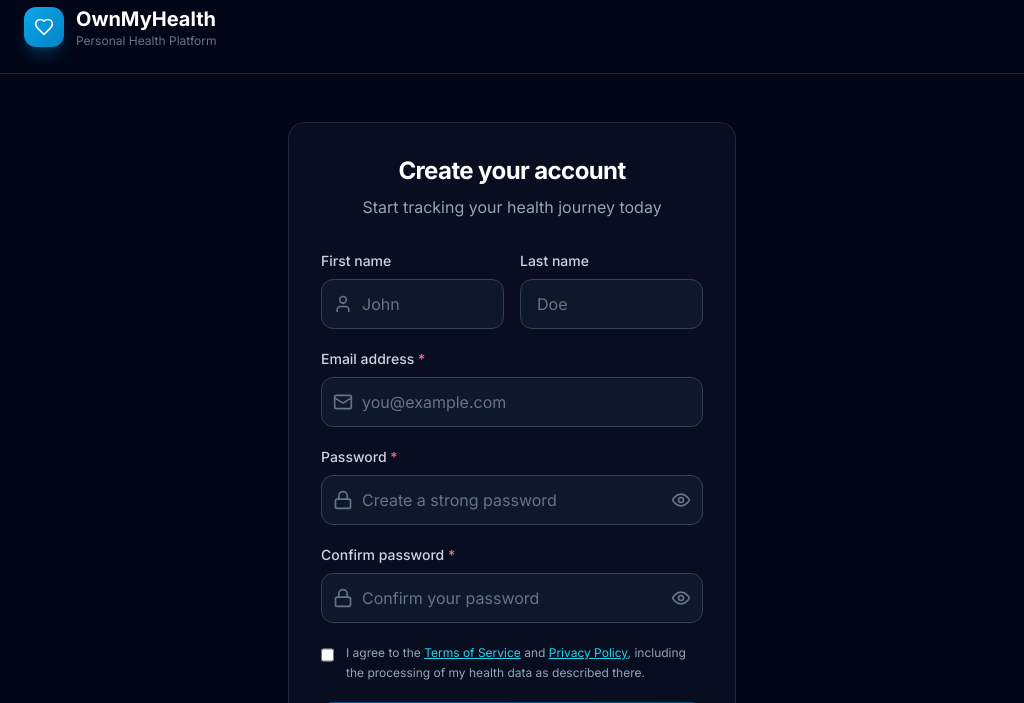
Scenario: RegisterPage — registration → verification funnel (ONB-1) › shows a "check your inbox" state with the email after a successful registration
Step 1. Type "jane@user.io" into the field with placeholder "you@example.com" → (512, 402), box [321,377,703,427]
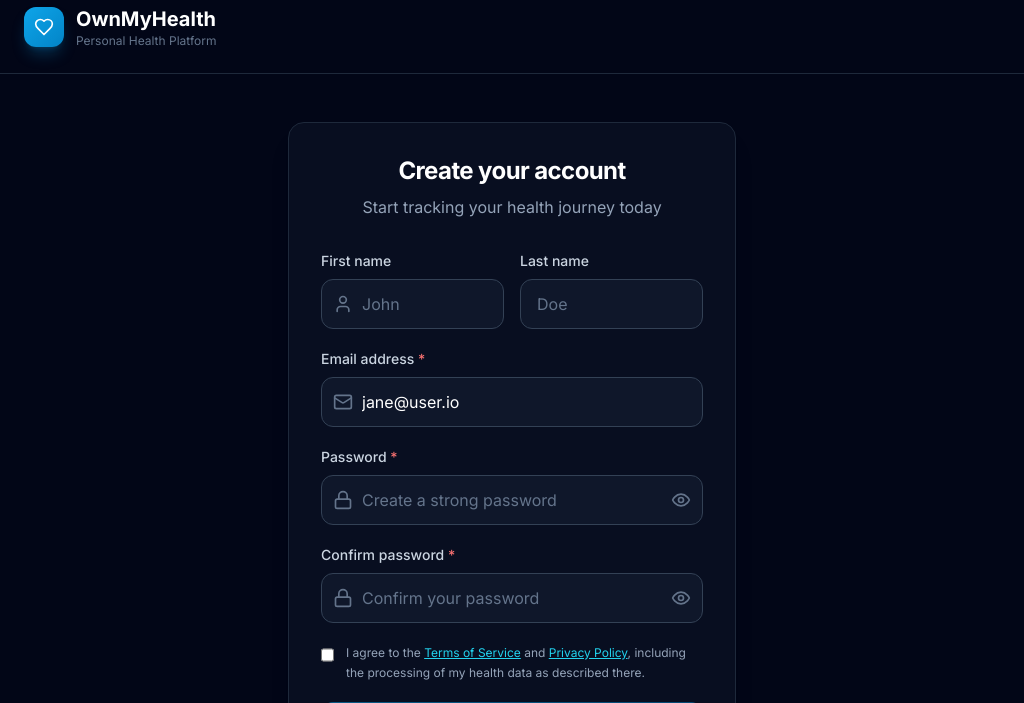
Step 2. Type "Abcdef123456!" into the password field with placeholder "Create a strong password" → (512, 500), box [321,475,703,525]
(page scrolled)
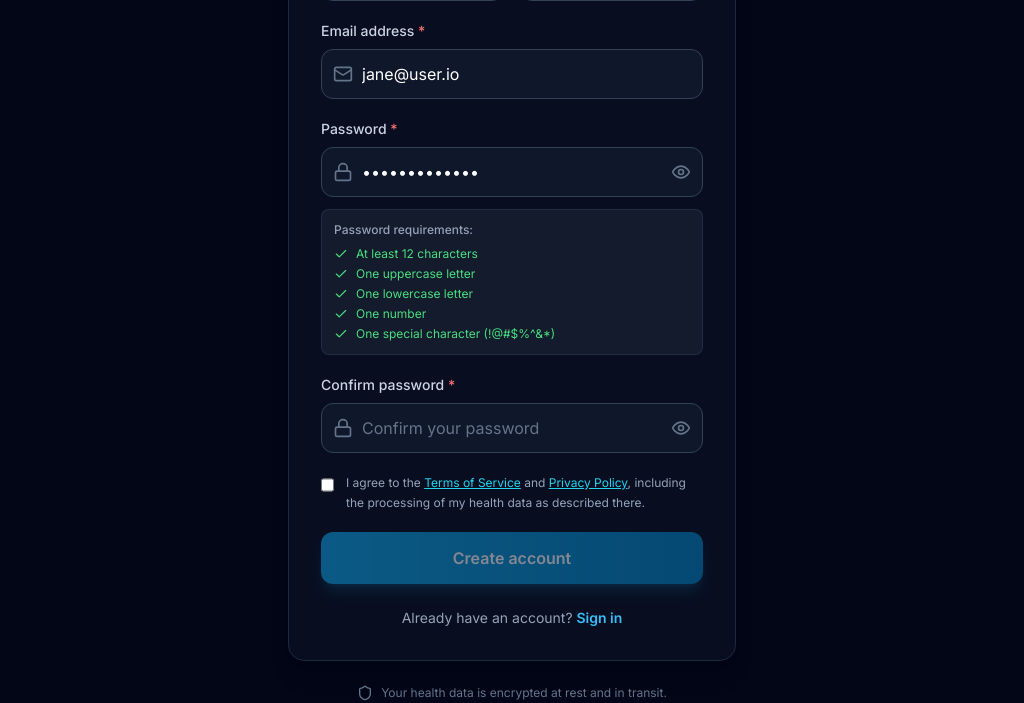
Step 3. Type "Abcdef123456!" into the password field with placeholder "Confirm your password" → (512, 428), box [321,403,703,453]
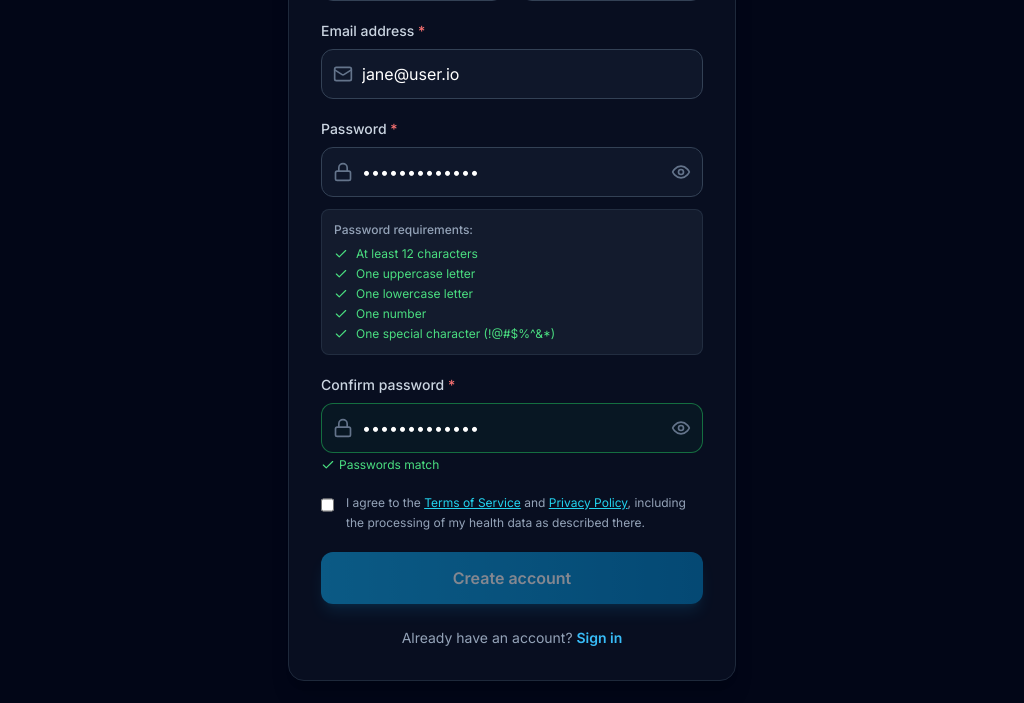
Step 4. Click the checkbox → click(328, 505), box [321,497,334,513]
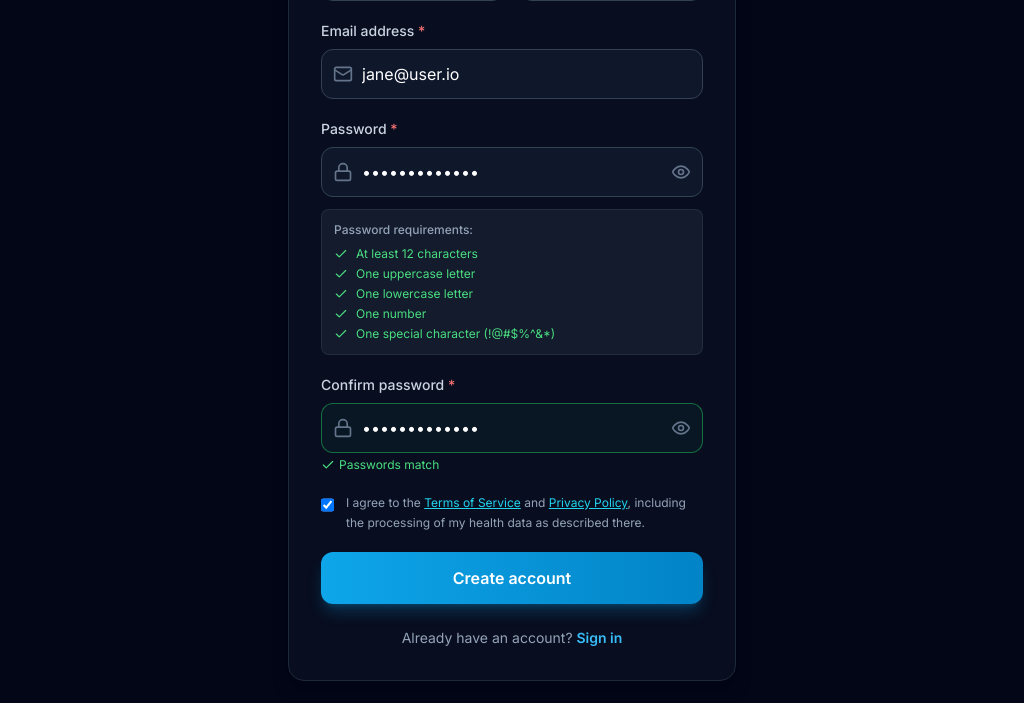
Step 5. Click the button "Create account" → click(512, 578), box [321,552,703,604]
(page scrolled)
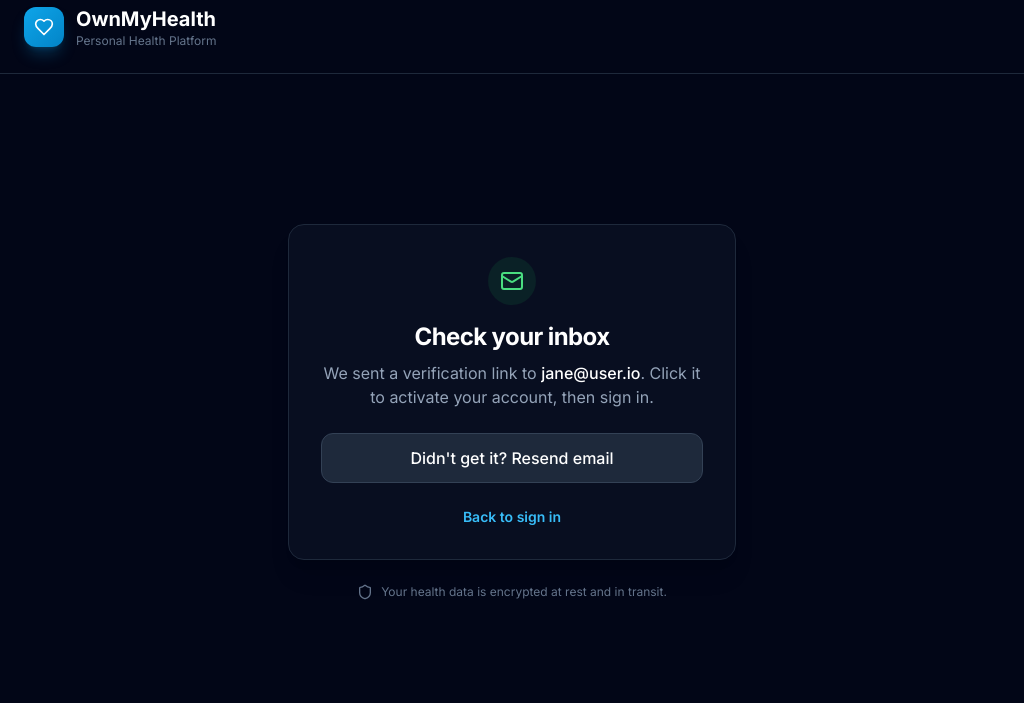
expect the heading "Check your inbox" is shown: met, box [414,322,610,350]
expect the text "jane@user.io" is shown: met, box [541,362,640,382]
expect the button "Create account" is gone: met
